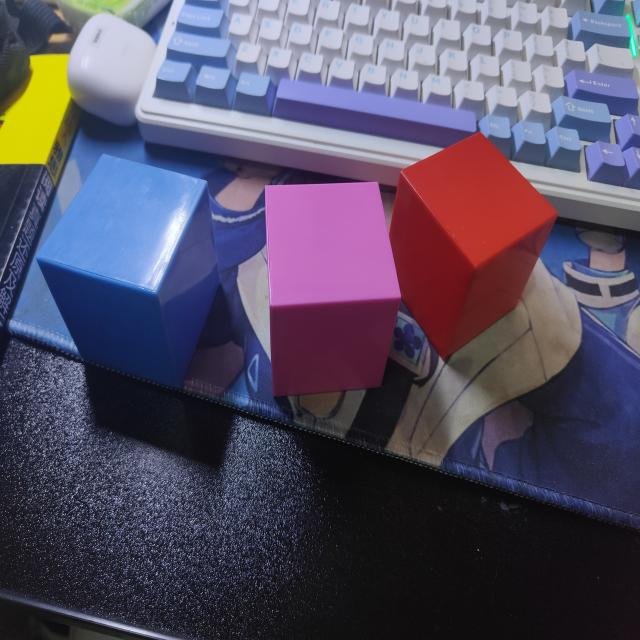blue: (36, 152, 223, 388)
pink: (263, 181, 403, 403)
red: (389, 132, 558, 362)
